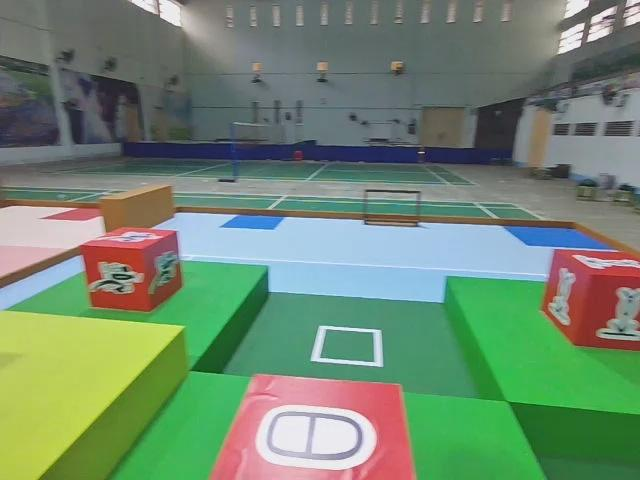R1: (79, 227, 184, 311)
R2 Fake: (210, 374, 416, 480)
R2 Real: (539, 247, 640, 350)
